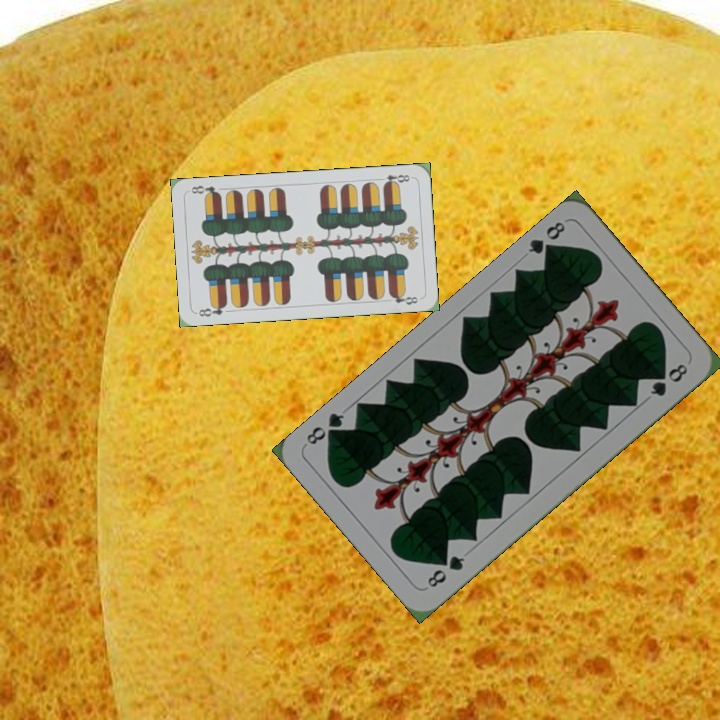E8: (374, 171, 415, 188), (194, 300, 229, 319)
G8: (524, 217, 568, 261), (423, 551, 468, 590)
